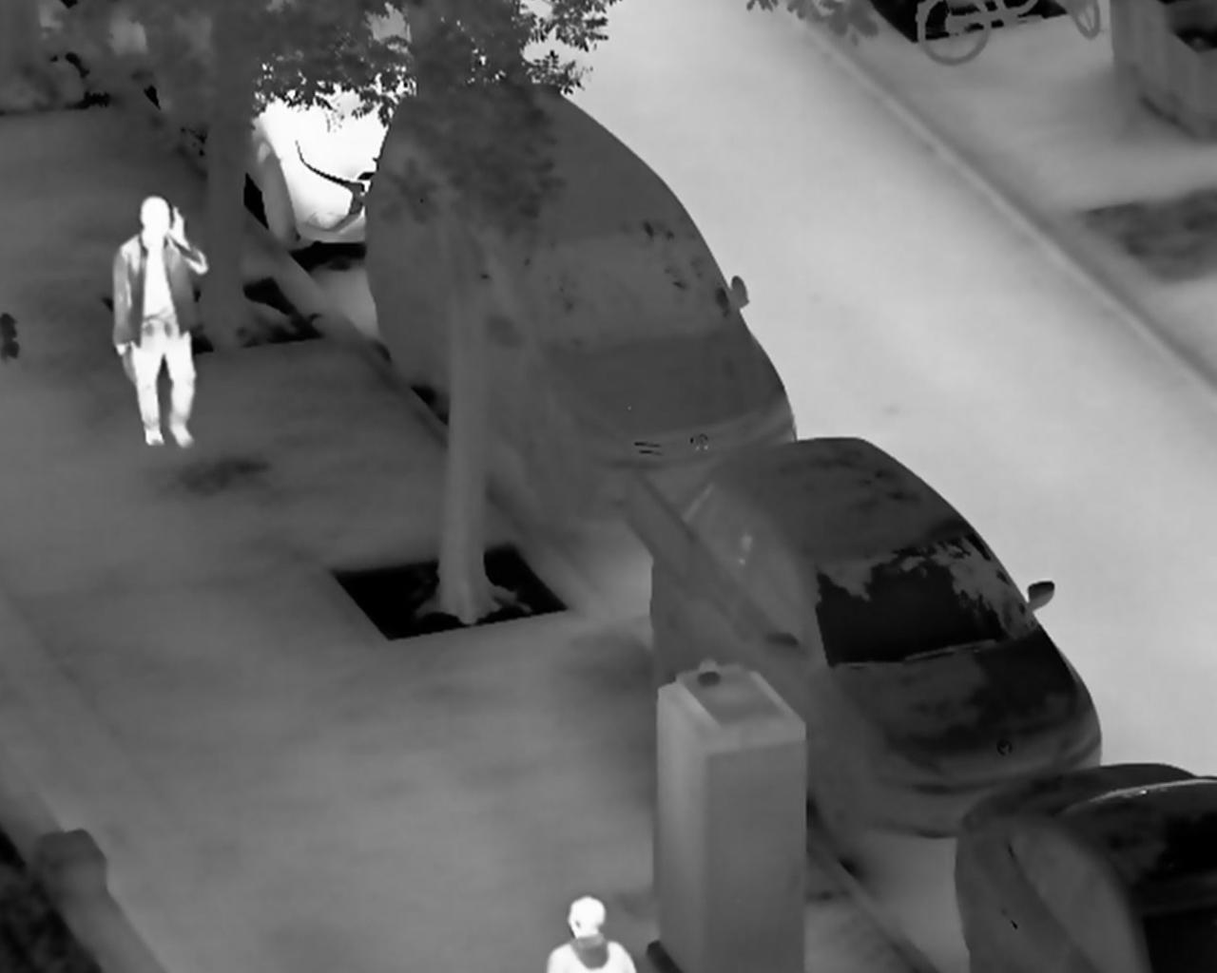person: (109, 195, 209, 451)
